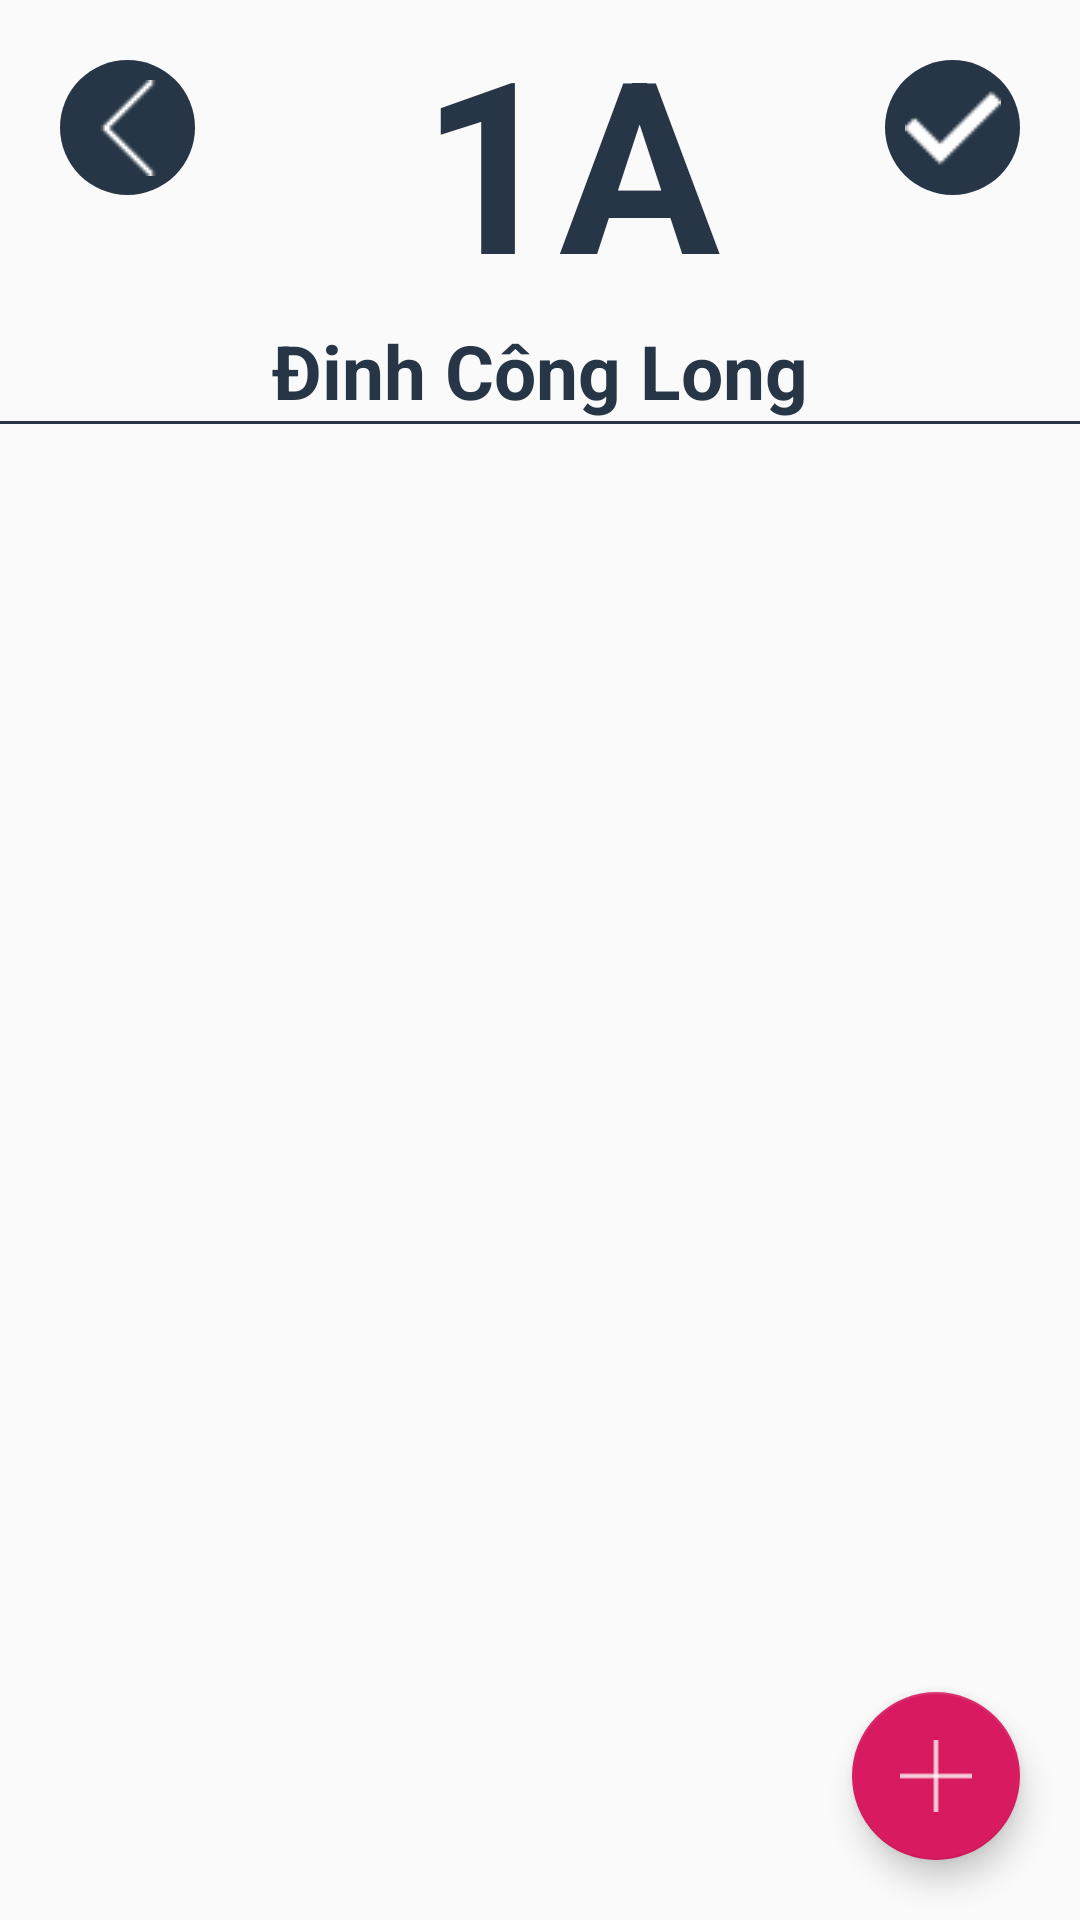

Icons on this 1080x1920 Android screen, each with the point to tap as (x=x, y=y):
add student: (x=936, y=1776)
back: (x=127, y=127)
complete: (x=952, y=127)
